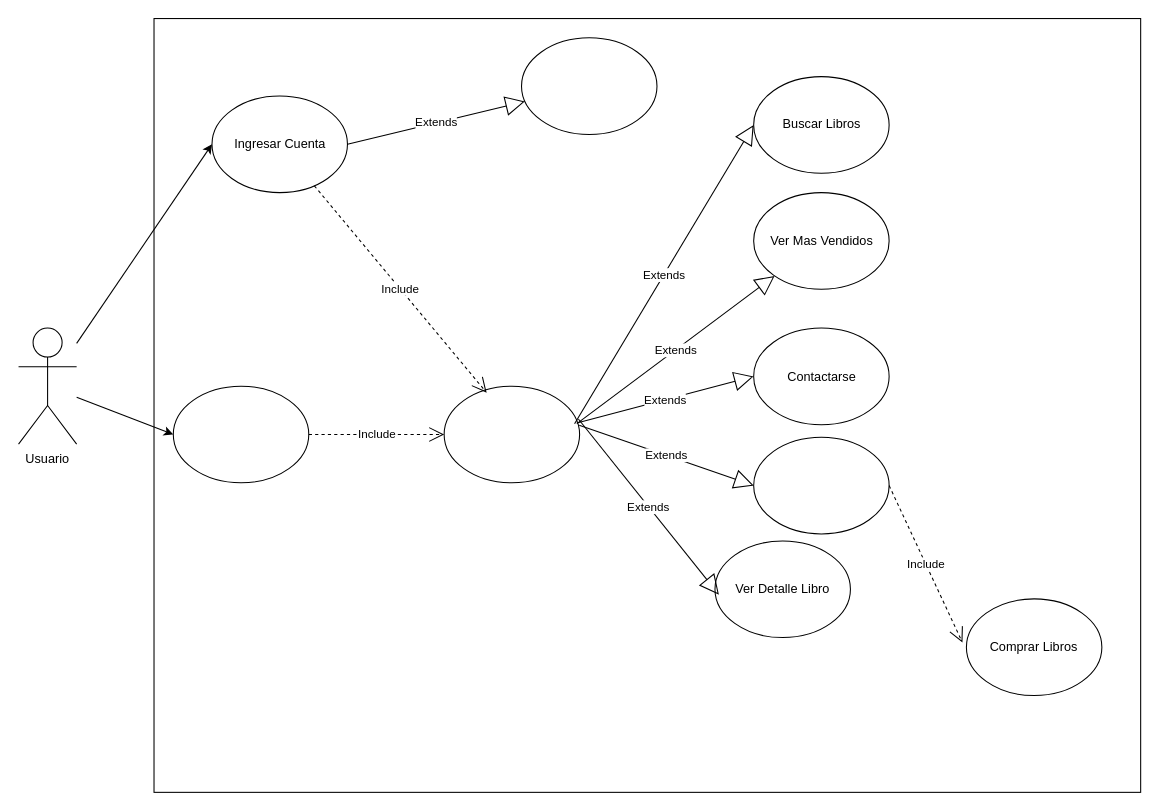
This 1160x811 diagram has some shape labels left out. The shapes that lost their labels are listed below. From the top down, each one's centre as x and y in pixels, then its label:
At (x=588, y=86): "Recuperar Contraseña".
At (x=240, y=434): "Registrar Cuenta".
At (x=511, y=434): "Ver Inicio".
At (x=821, y=485): "Agregar a Carrito".
